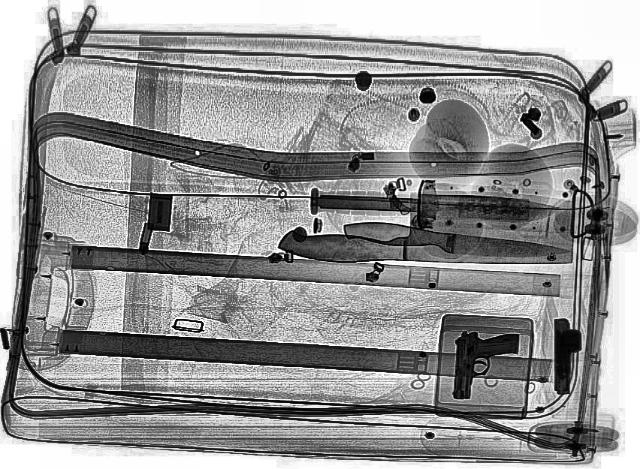Gun: (450, 328, 520, 400), (550, 318, 586, 394)
Knife: (276, 190, 578, 266), (338, 218, 574, 264), (316, 190, 558, 222)
